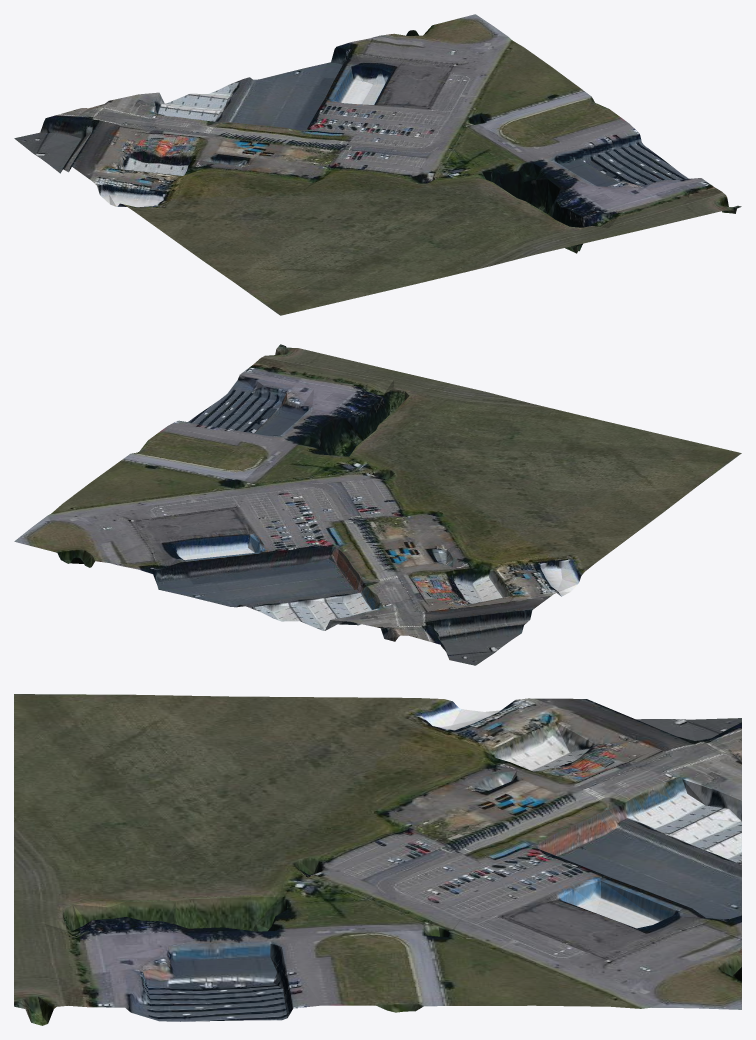
The model's file is map_13_2046_3445.dae.
The picture shows the model from 3 angles, top to bottom: view 1: azimuth 30°, elevation 25°; view 2: azimuth 150°, elevation 25°; view 3: azimuth 270°, elevation 25°; orthographic projection. The views are drawn at different scales.
Parts seen in each view (by area): view 1: Ter0; view 2: Ter0; view 3: Ter0.
Part boxes in pixels (x1,y1,x2,y2): Ter0: [14, 14, 741, 315]; Ter0: [14, 344, 741, 665]; Ter0: [14, 694, 741, 1025].
Bounding box in the file's own units: 256 × 256 × 22.15.
Materials: 2 (2 with a texture image).
